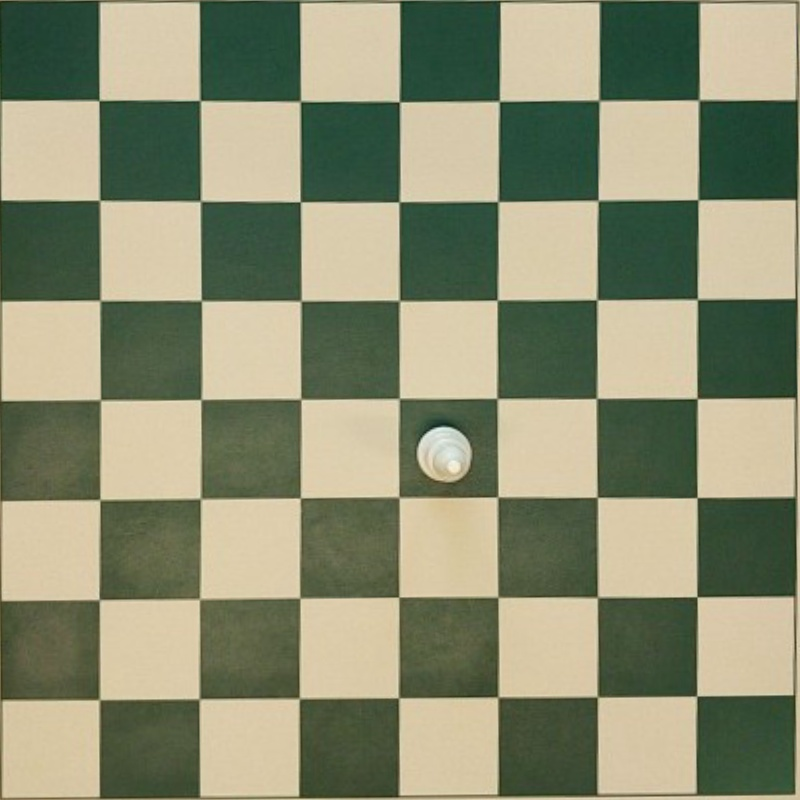white-bishop: (416, 424, 473, 483)
